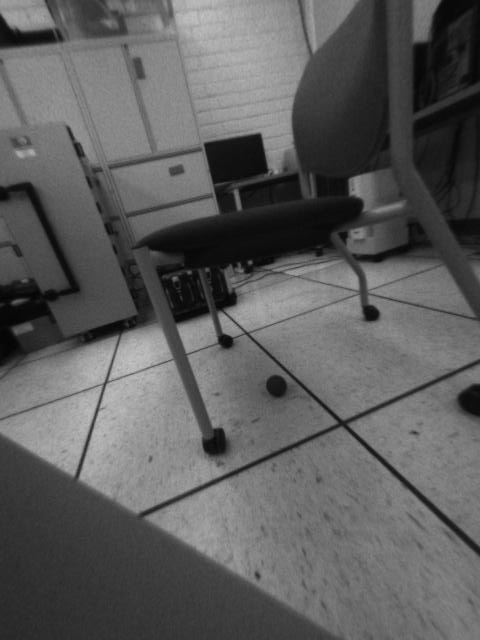dogtoy: (261, 367, 293, 403)
